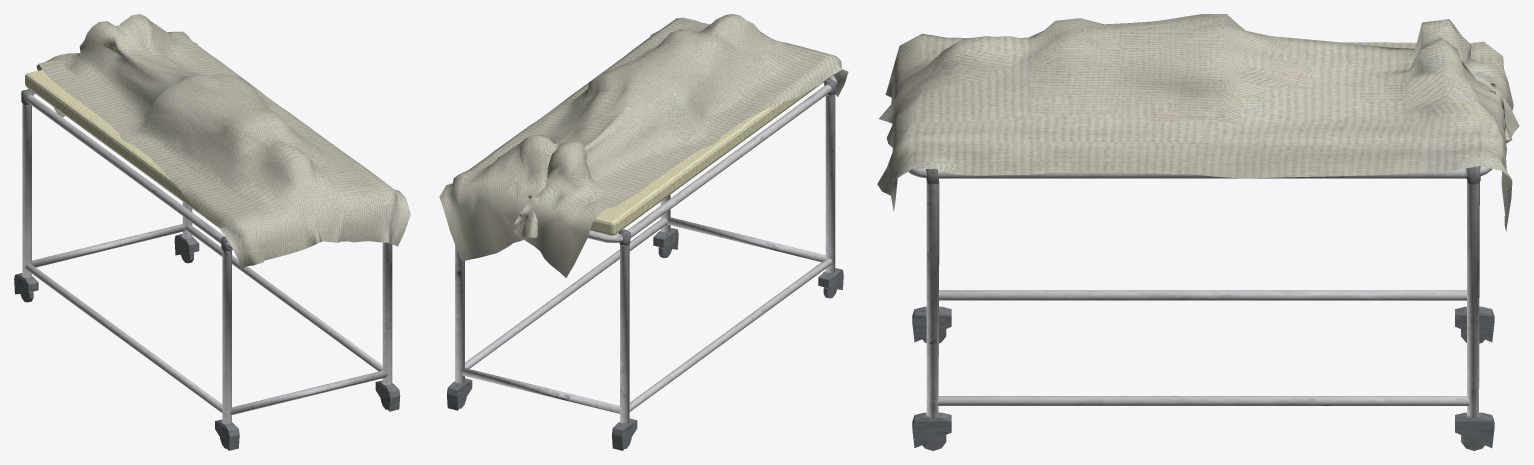
Rendered from hospital_stretcher.glb.
3 views of the same model, side by side, from view 1: azimuth 30°, elevation 25°; view 2: azimuth 150°, elevation 25°; view 3: azimuth 270°, elevation 25° (orthographic). The views are drawn at different scales.
Visible parts, largest first — view 1: Maca_Colchao_0, Maca_MetalBranco_0, Maca_MetalEscuro_0; view 2: Maca_Colchao_0, Maca_MetalBranco_0, Maca_MetalEscuro_0; view 3: Maca_Colchao_0, Maca_MetalBranco_0, Maca_MetalEscuro_0.
Part boxes in pixels (box(x1,y1,x2,y2)): Maca_Colchao_0: box(25, 14, 410, 268); Maca_MetalBranco_0: box(22, 88, 392, 424); Maca_MetalEscuro_0: box(14, 89, 400, 450); Maca_Colchao_0: box(439, 14, 848, 277); Maca_MetalBranco_0: box(455, 76, 837, 423); Maca_MetalEscuro_0: box(447, 79, 843, 450); Maca_Colchao_0: box(877, 14, 1519, 231); Maca_MetalBranco_0: box(908, 166, 1492, 417); Maca_MetalEscuro_0: box(912, 166, 1494, 450).
Size of the model in its own units: 0.9158 by 1.32 by 2.07.
Materials: 3 (3 with a texture image).
